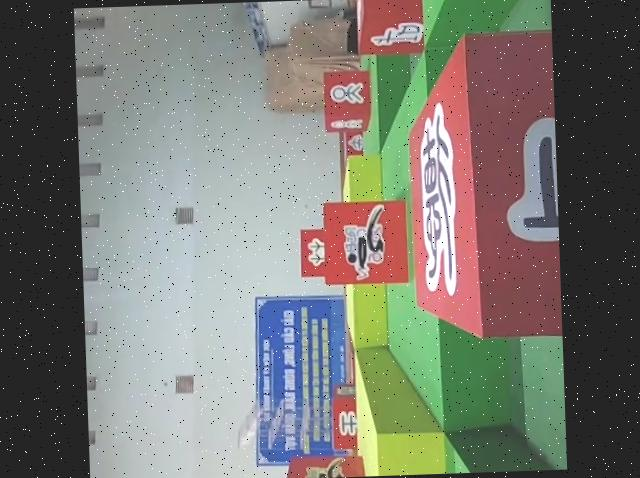R1: (321, 198, 409, 291), (277, 446, 368, 478)
R2 Fake: (401, 26, 563, 345)
R2 Real: (351, 0, 431, 56), (322, 68, 372, 132)
